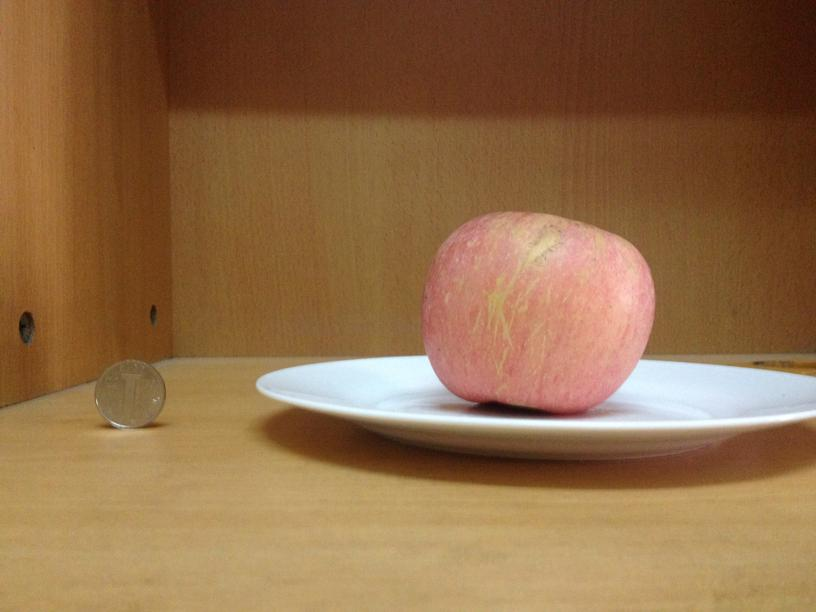apple: (421, 209, 656, 410)
coin: (94, 359, 167, 430)
